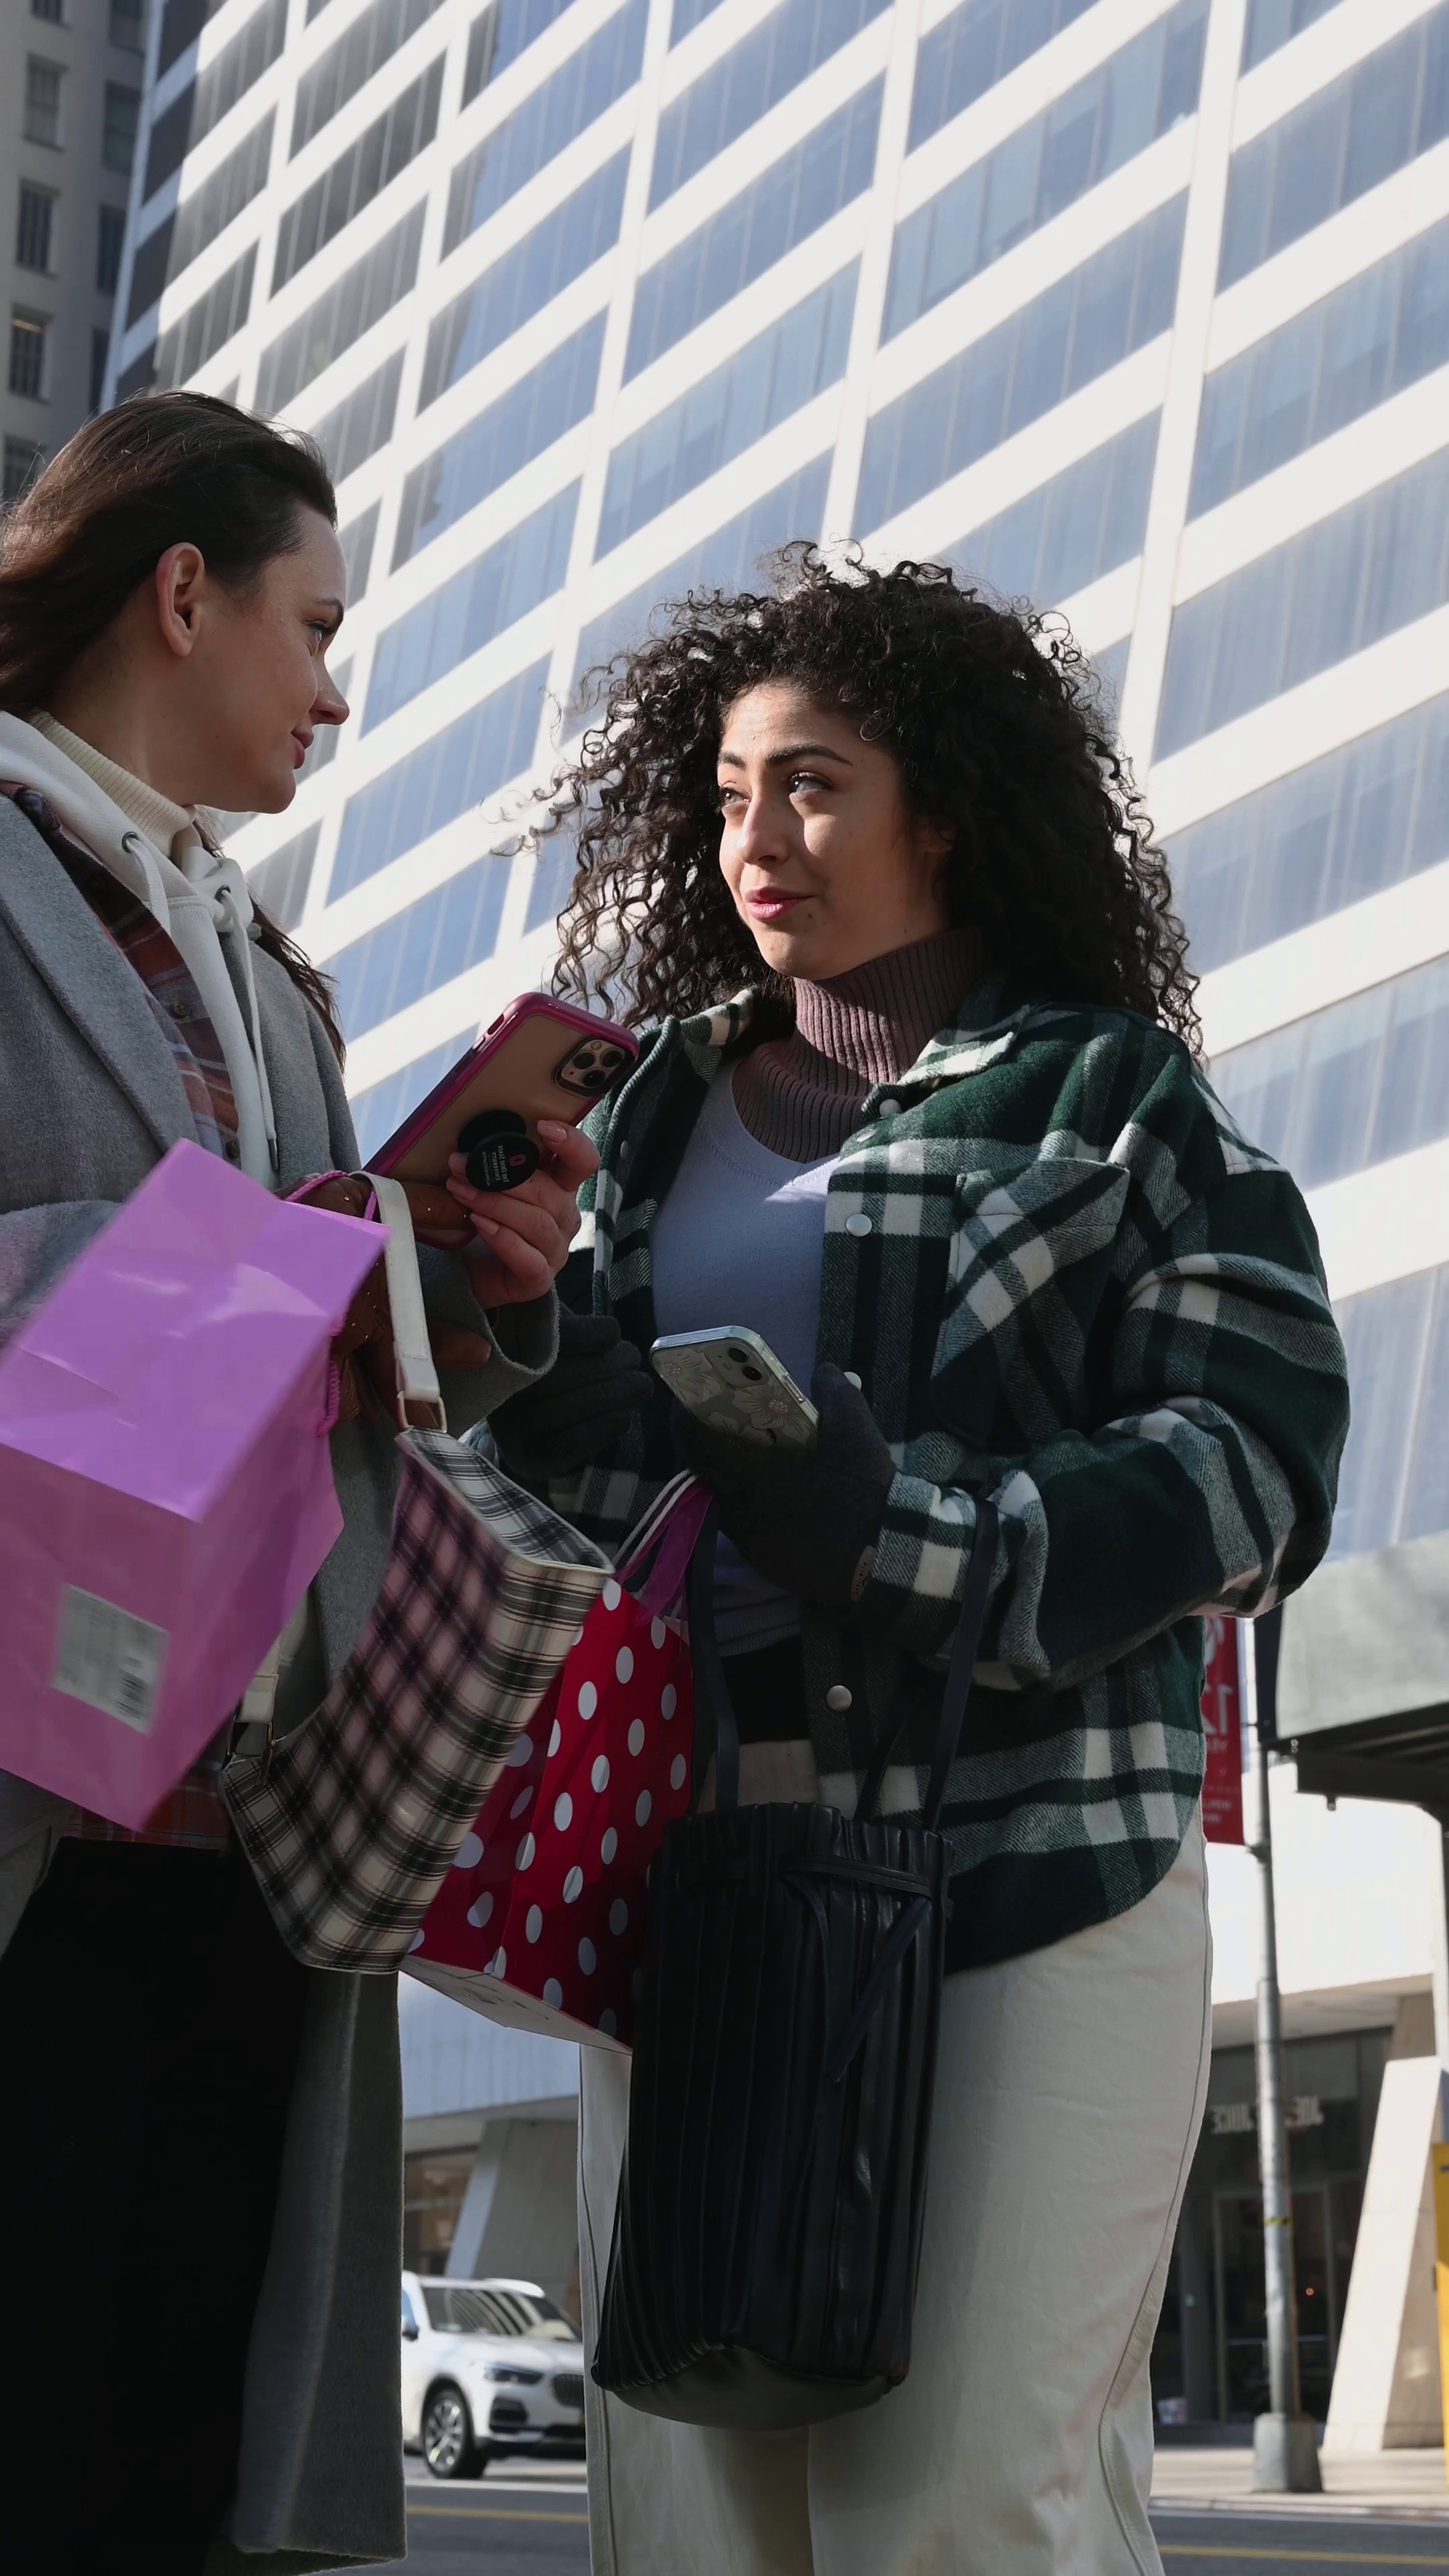phone: (350, 985, 663, 1212), (633, 1315, 828, 1456)
